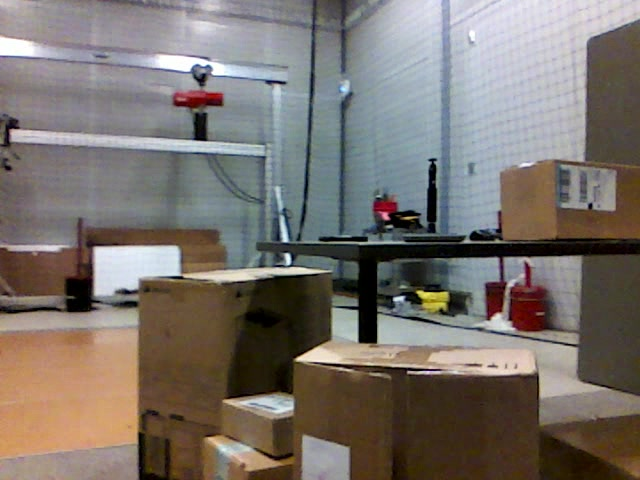box: (140, 269, 332, 480), (294, 340, 538, 480), (501, 159, 640, 237), (541, 418, 640, 478), (221, 389, 298, 461), (205, 434, 295, 480)
